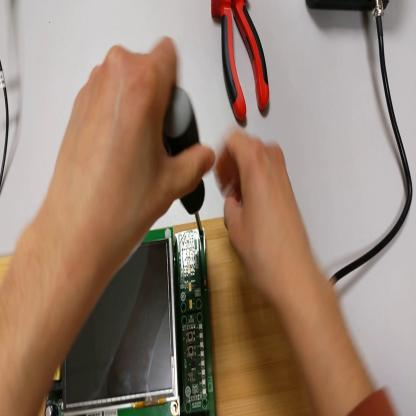hand: (52, 35, 217, 265), (214, 132, 313, 299)
low voltage board: (43, 229, 218, 415)
pliers: (212, 3, 271, 123)
screwdriver-: (164, 91, 208, 235)
welder station: (306, 1, 389, 14)
